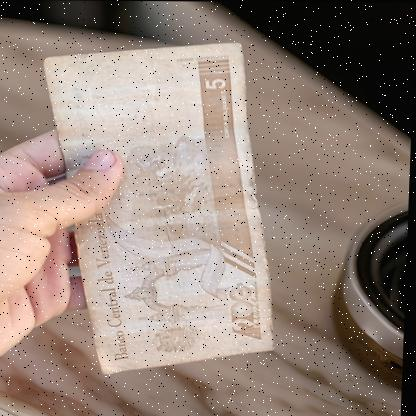five-back-vef: (35, 40, 287, 375)
